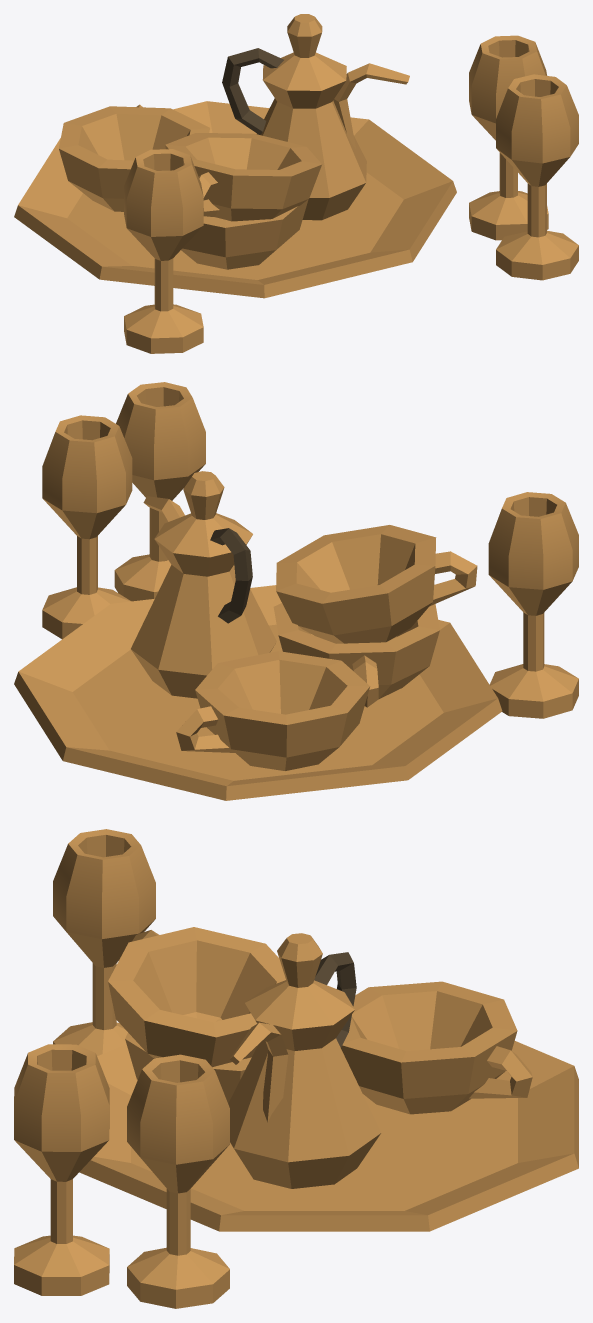
Rendered from SM_Prop_Gold_Plates_Preset_02.fbx.
3 views of the same model, one above another, from view 1: azimuth 30°, elevation 25°; view 2: azimuth 150°, elevation 25°; view 3: azimuth 270°, elevation 25° (orthographic). The views are drawn at different scales.
Visible parts, largest first — view 1: SM_Prop_Gold_Plates_Preset_02; view 2: SM_Prop_Gold_Plates_Preset_02; view 3: SM_Prop_Gold_Plates_Preset_02.
Part boxes in pixels (<box>): SM_Prop_Gold_Plates_Preset_02: <box>14,14,578,353</box>; SM_Prop_Gold_Plates_Preset_02: <box>14,382,578,800</box>; SM_Prop_Gold_Plates_Preset_02: <box>14,829,578,1308</box>.
Bounding box in the file's own units: 75.36 × 33.34 × 66.87.
